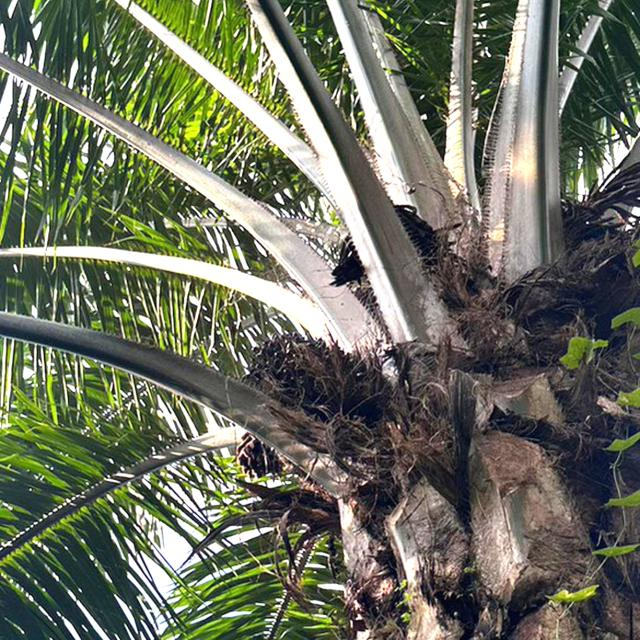ripe: (251, 330, 353, 429)
